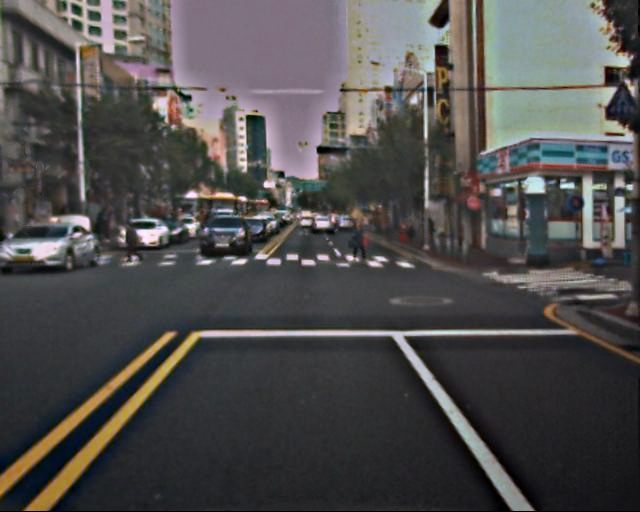person: (349, 219, 369, 267), (121, 221, 140, 268)
